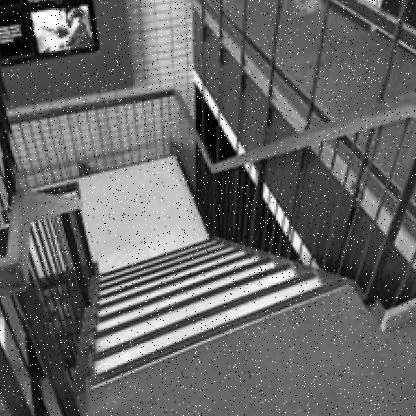stair_down: (88, 274, 339, 397)
